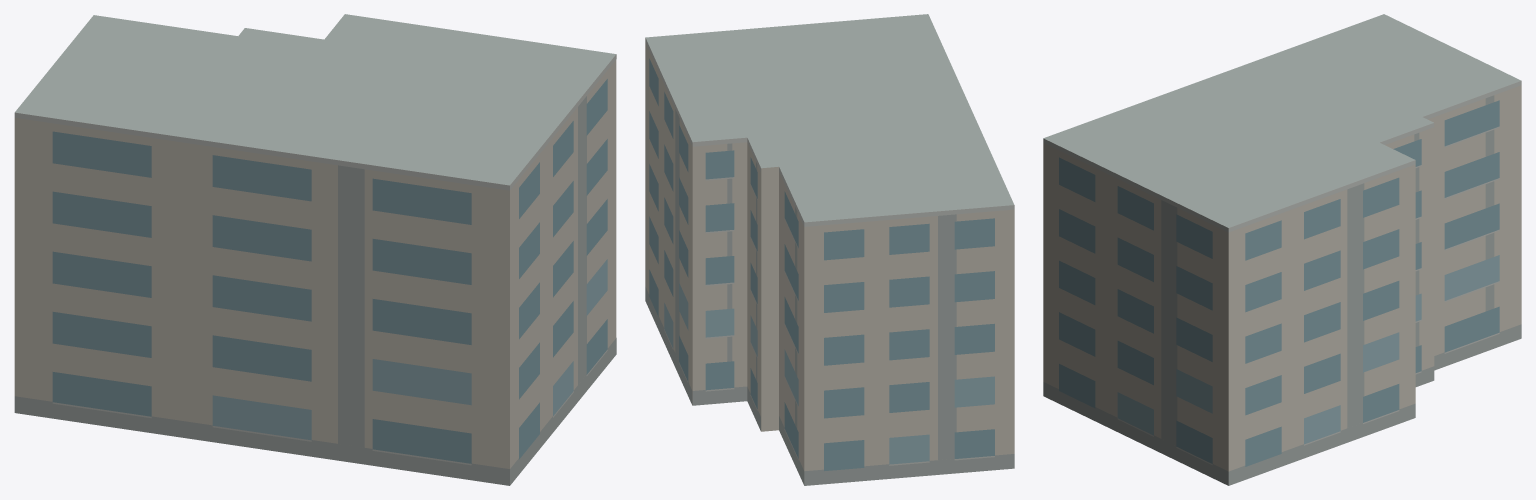
File: survey-upis-32633567.glb
The picture shows the model from 3 angles, left to right: view 1: azimuth 30°, elevation 25°; view 2: azimuth 150°, elevation 25°; view 3: azimuth 270°, elevation 25°; orthographic projection. The views are drawn at different scales.
Parts seen in each view (by area): view 1: survey-upis-32633567.tmp; view 2: survey-upis-32633567.tmp; view 3: survey-upis-32633567.tmp.
Part boxes in pixels (left/top/right/bottom): survey-upis-32633567.tmp: left=14, top=14, right=616, bottom=485; survey-upis-32633567.tmp: left=645, top=14, right=1014, bottom=485; survey-upis-32633567.tmp: left=1043, top=14, right=1521, bottom=485.
Size of the model in its own units: 25.3 by 14.2 by 23.89.
